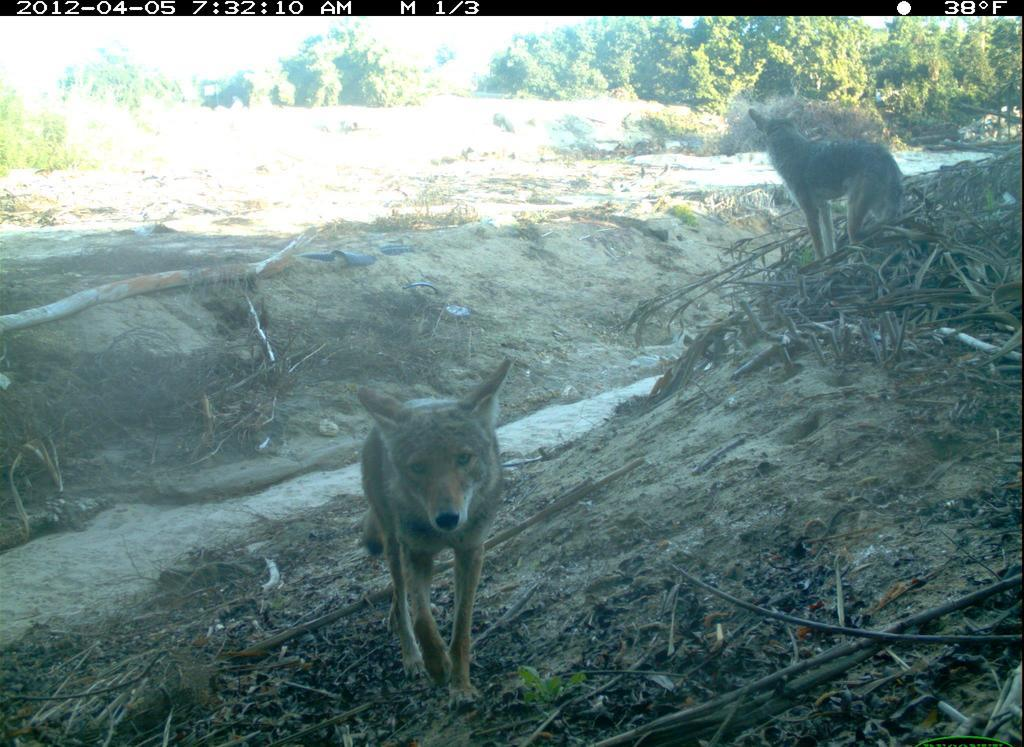coyote: (328, 386, 540, 709), (743, 98, 921, 255)
